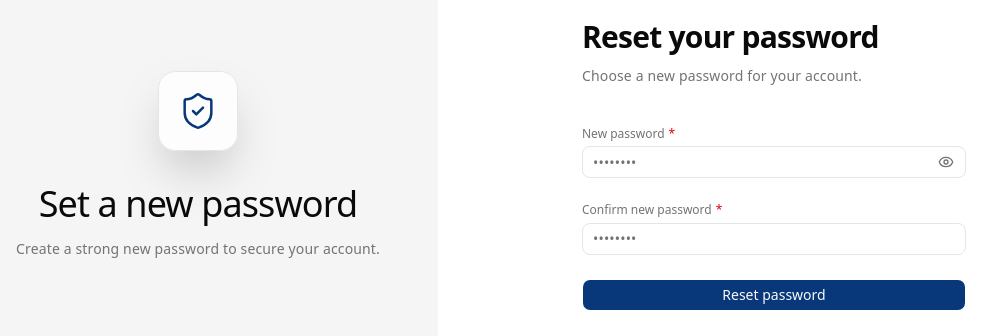
Test case: ResetPasswordPage (S2) — integration (VT) › maps a same-password 422 onto the password field
Type "Password123" into the password field with id "reset-password".
click(774, 162); type("Password123")  # box [582,146,966,178]
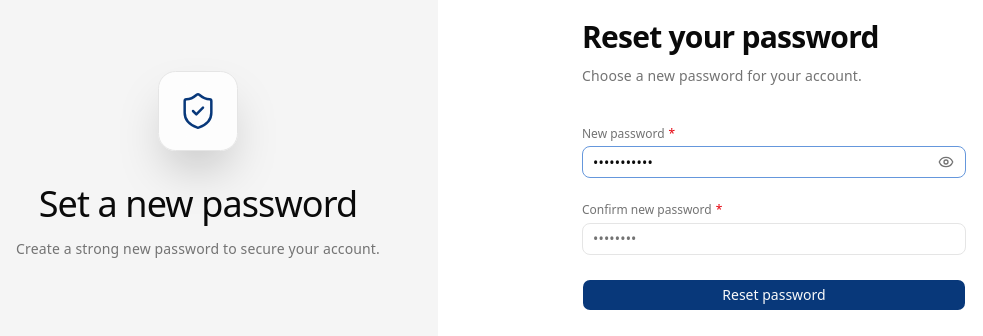
Type "Password123" into the password field with id "reset-password-confirmation".
click(774, 239); type("Password123")  # box [582,223,966,255]
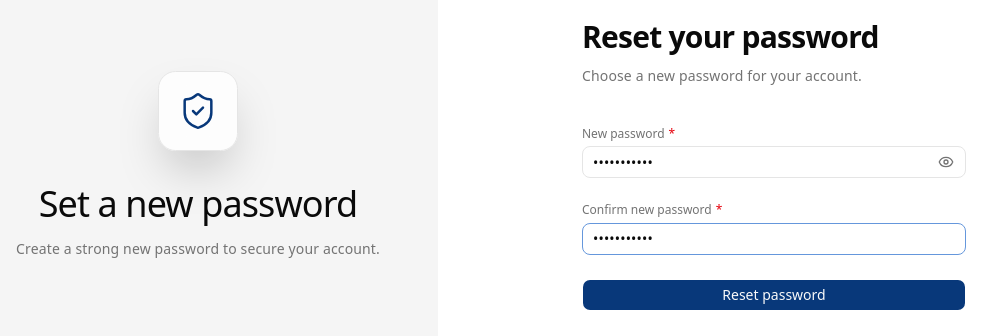
Click the button "Reset password".
click(774, 295)  # box [582,279,966,311]
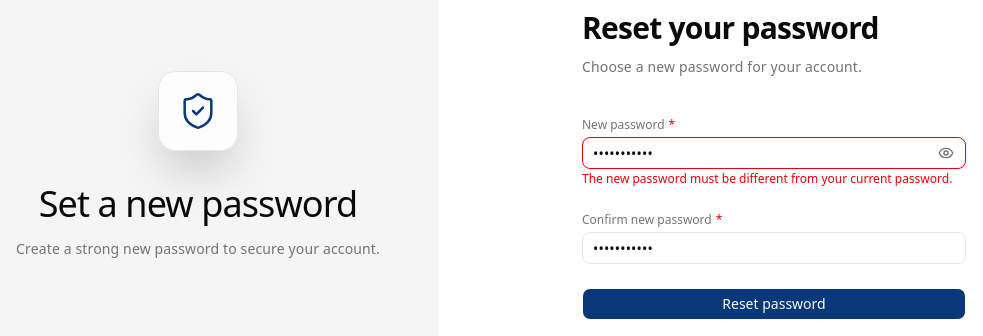
Result: the text "The new password must be different from your current password." is shown at [582,171,966,188]
